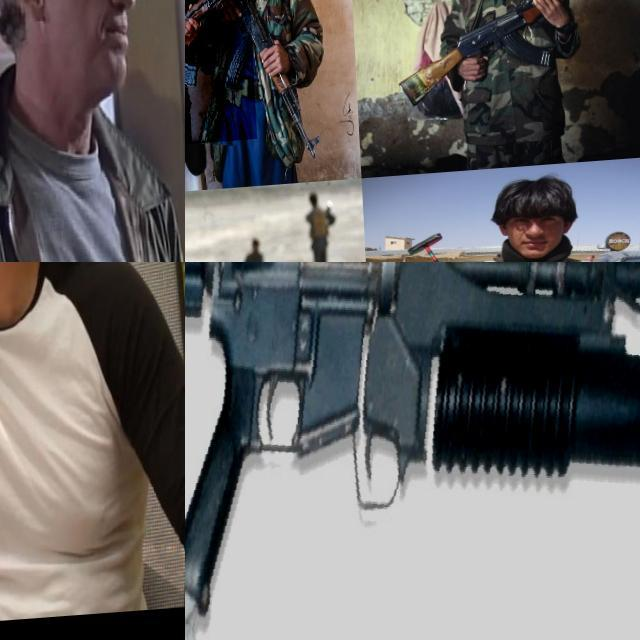-: (0, 341, 44, 542)
gun-knife-thesis - v11 Yolov5 augmented: (185, 262, 640, 640), (390, 0, 618, 111), (187, 0, 316, 168), (185, 0, 267, 151)
